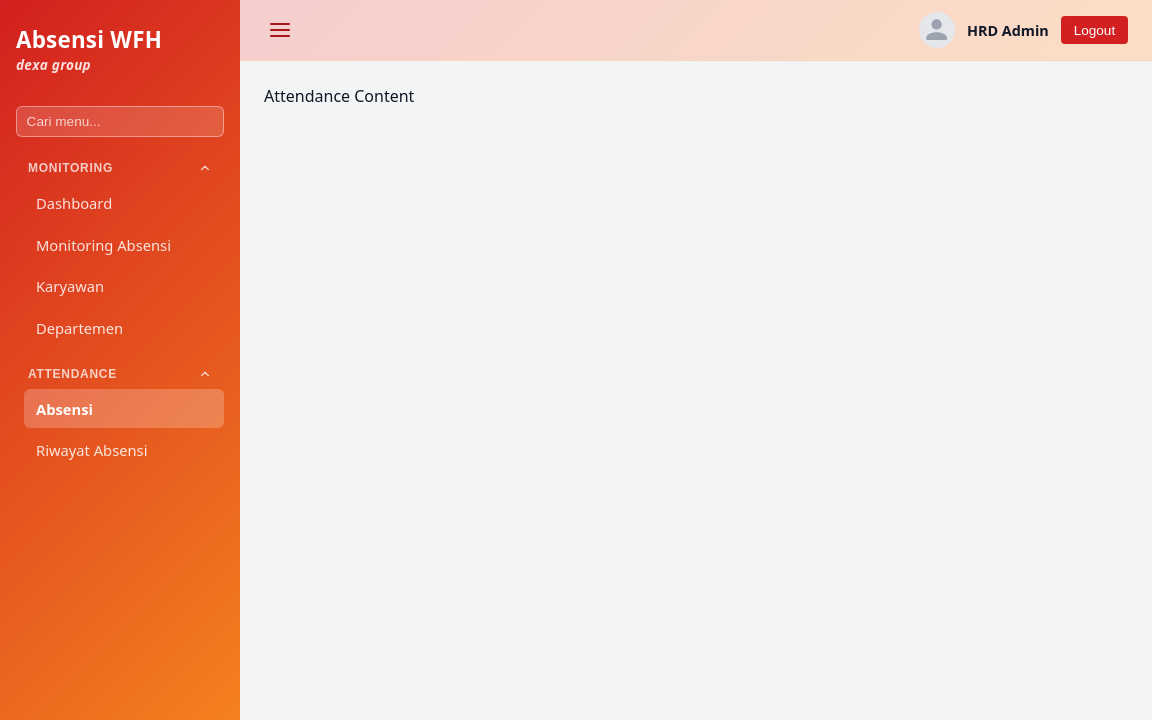
Scenario: AppLayout › filters the menu as the search box is typed into
The image size is (1152, 720).
Type "karya" into the search field labelled "Cari menu" at [120, 122], box [16, 106, 224, 137]
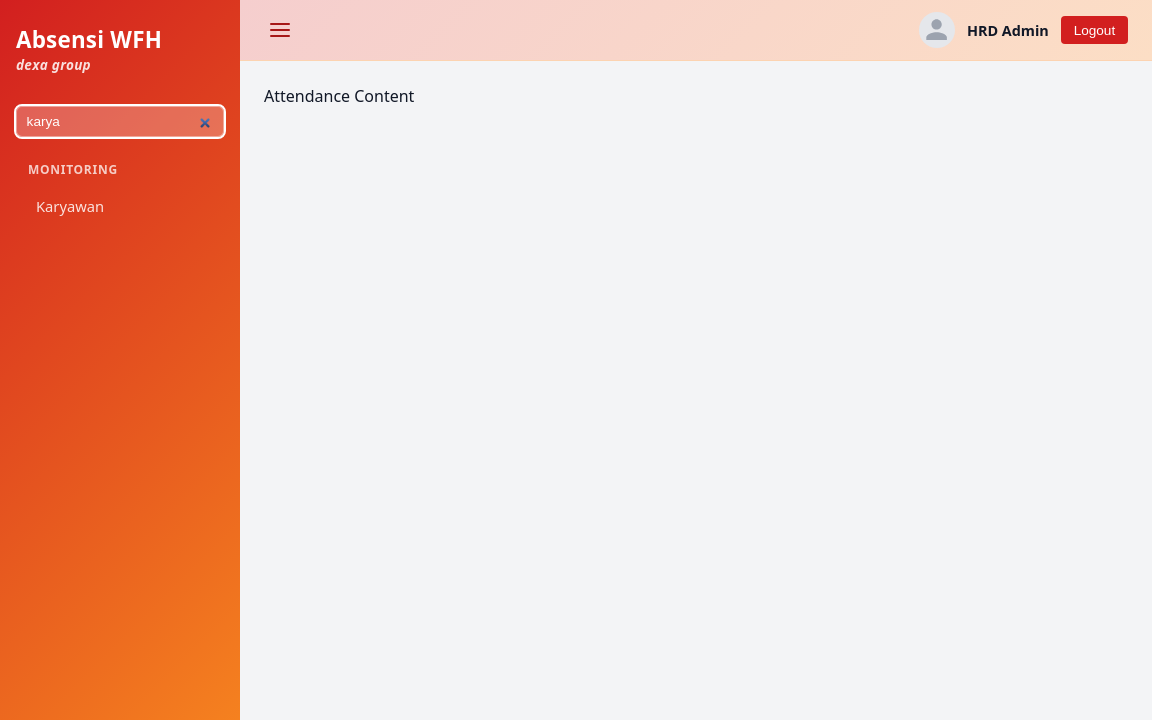
Check: the link "Karyawan" is shown, box [36, 196, 104, 216]
Check: the link "Dashboard" is gone
